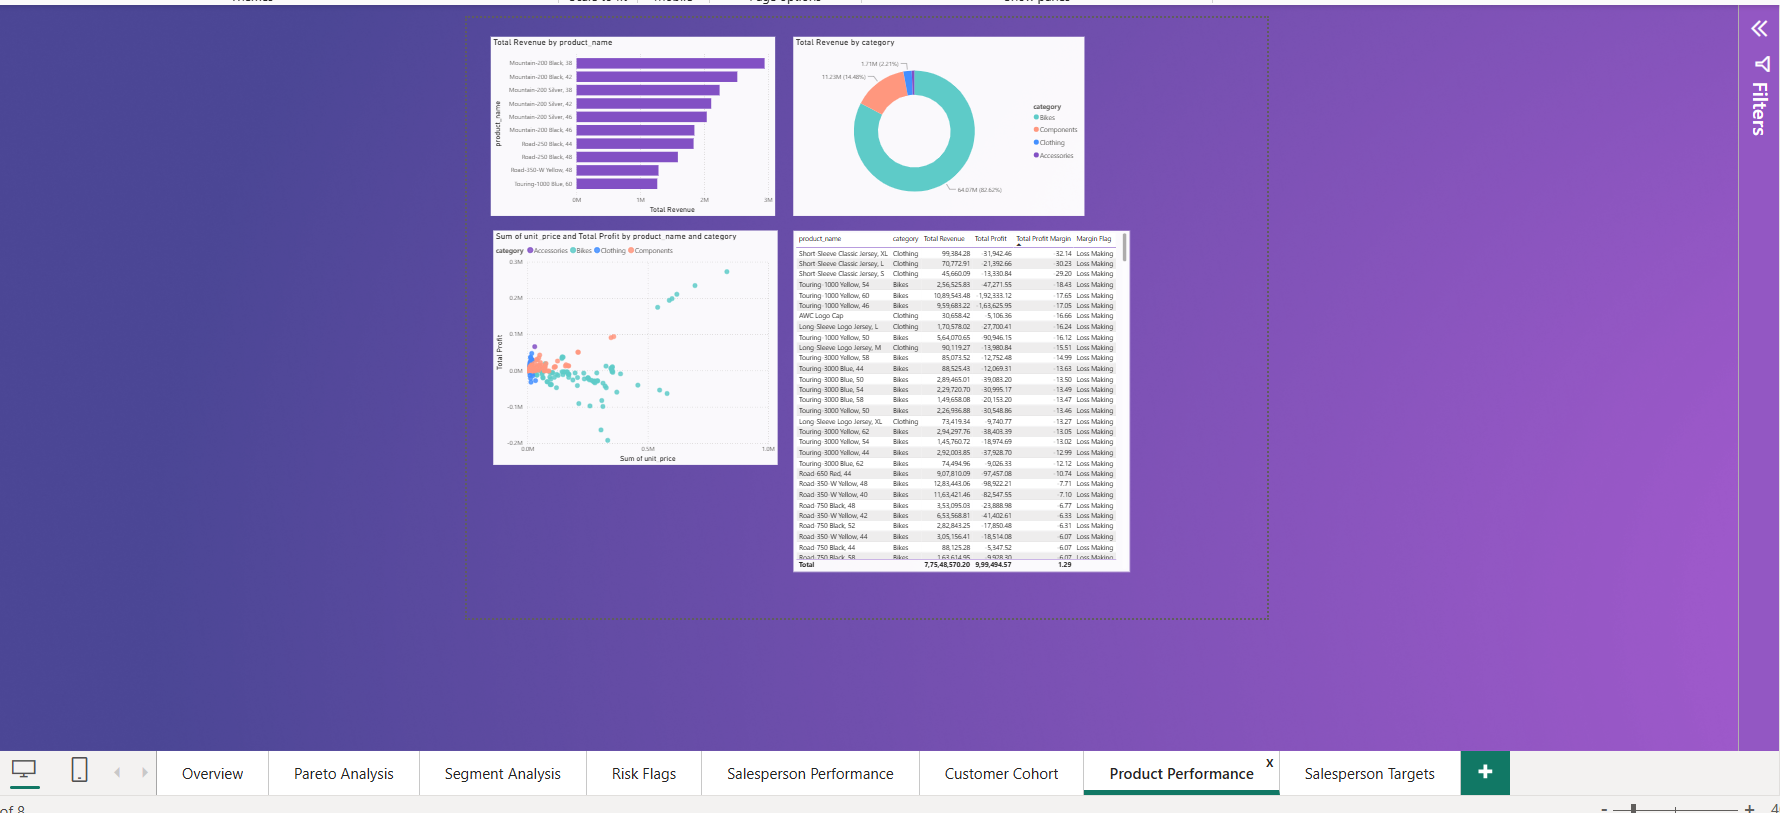

What the dashboard file says about the page in this screenshot:
{"tool":"powerbi","page":{"name":"Product Performance","canvas":[1600,1200],"ordinal":6},"visuals":[{"type":"clusteredBarChart","fields":{"Category":["products.product_name"],"Y":["customers.Total Revenue"]},"box":[48.3,37.9,569,358.6],"z":0},{"type":"donutChart","fields":{"Category":["products.category"],"Y":["customers.Total Revenue"]},"box":[651.7,37.9,582.8,358.6],"z":1},{"type":"scatterChart","fields":{"X":["Sum(sales.unit_price)"],"Y":["customers.Total Profit"],"Series":["products.category"],"Category":["products.product_name"]},"box":[51.7,424.1,569,469],"z":2},{"type":"tableEx","fields":{"Values":["products.product_name","products.category","customers.Total Revenue","customers.Total Profit","customers.Total Profit Margin","customers.Margin Flag"]},"box":[652.5,425,672.5,682.5],"z":3}]}

Visuals, with their boxes on the page's 1600x1200 design canvas (x1, y1, x2, y2). These are canvas units, not pixel positions in the 1780x813 screenshot, which may show the page scaled, cropped or inside an application window:
clusteredBarChart - products.product_name x customers.Total Revenue: (48, 38, 617, 396)
donutChart - products.category x customers.Total Revenue: (652, 38, 1234, 396)
scatterChart - Sum(sales.unit_price) x customers.Total Profit: (52, 424, 621, 893)
tableEx - products.product_name x products.category: (652, 425, 1325, 1108)
